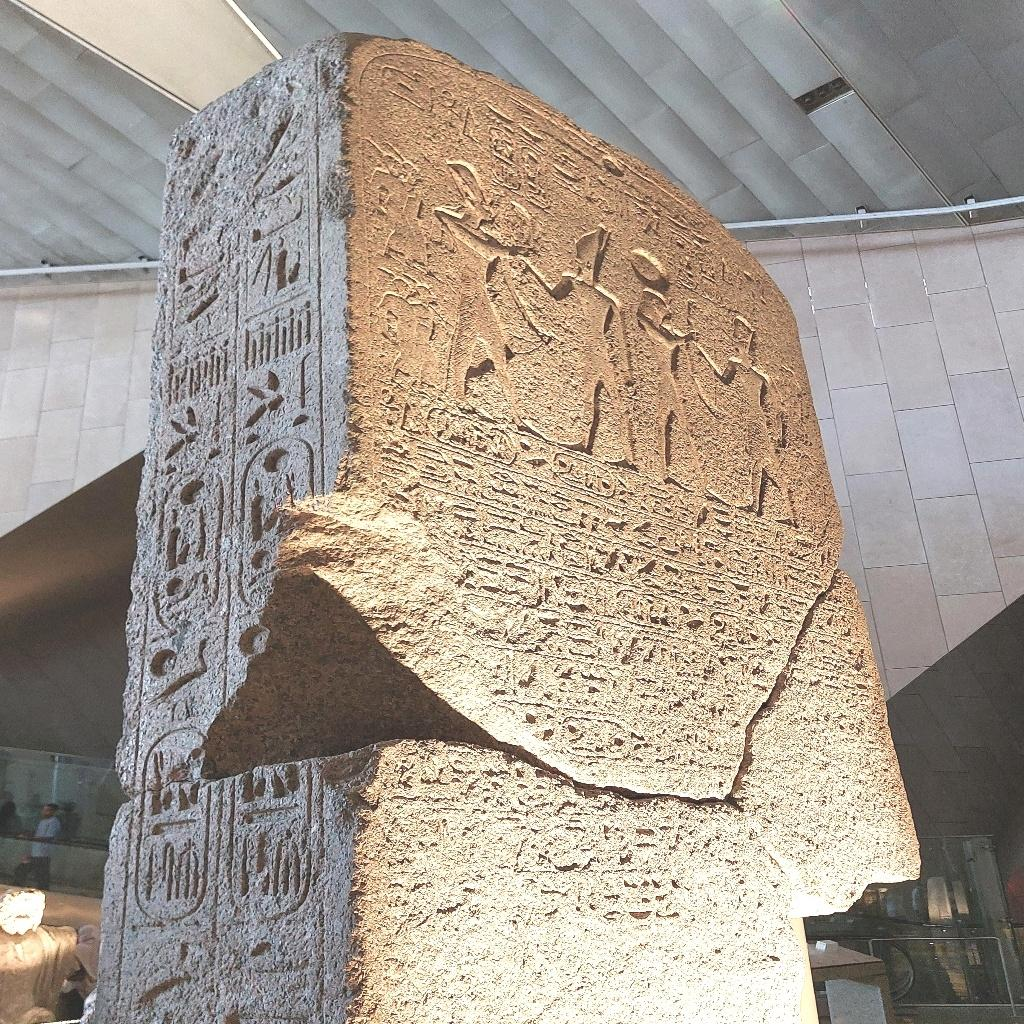Rhetorical Stela of King Ramesses ll: (84, 28, 926, 1022)
